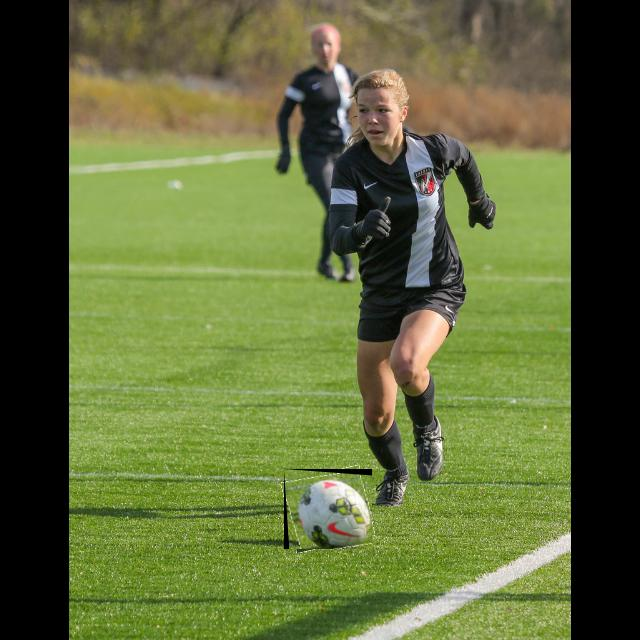Football: (284, 469, 372, 549)
